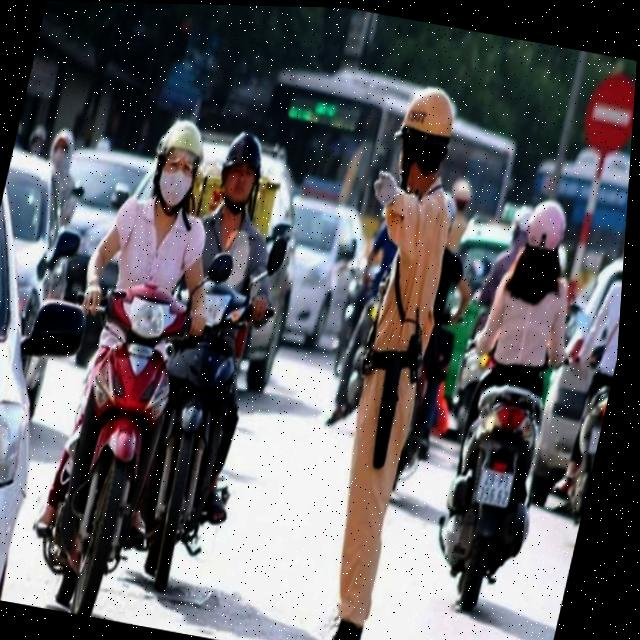car: (0, 173, 119, 607)
motorcycle: (13, 263, 248, 629), (112, 282, 275, 600), (408, 362, 568, 637), (544, 368, 614, 534)
plate: (468, 459, 523, 513)
